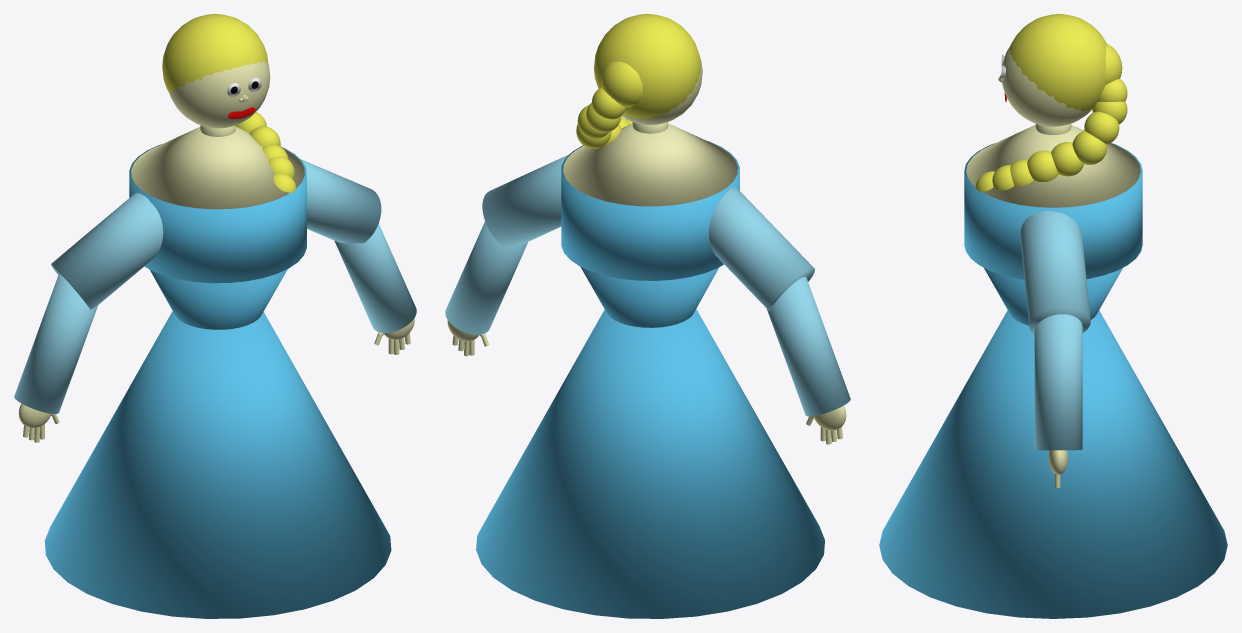
The model's file is better_elsa.fbx.
3 renders of one model, left to right at view 1: azimuth 30°, elevation 25°; view 2: azimuth 150°, elevation 25°; view 3: azimuth 270°, elevation 25°, orthographic.
Parts seen in each view (by area): view 1: Hair.008; view 2: Hair.008; view 3: Hair.008.
Boxes of the visible parts, x1,y1,x2,y2 form: Hair.008: [14, 14, 416, 618]; Hair.008: [445, 14, 850, 618]; Hair.008: [879, 14, 1227, 618].
Bounding box in the file's own units: 444 × 561 × 337.
